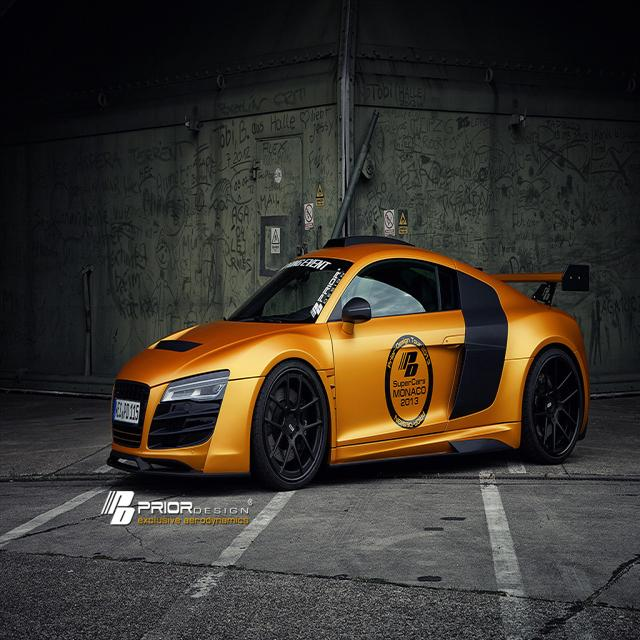car: (106, 236, 584, 488)
